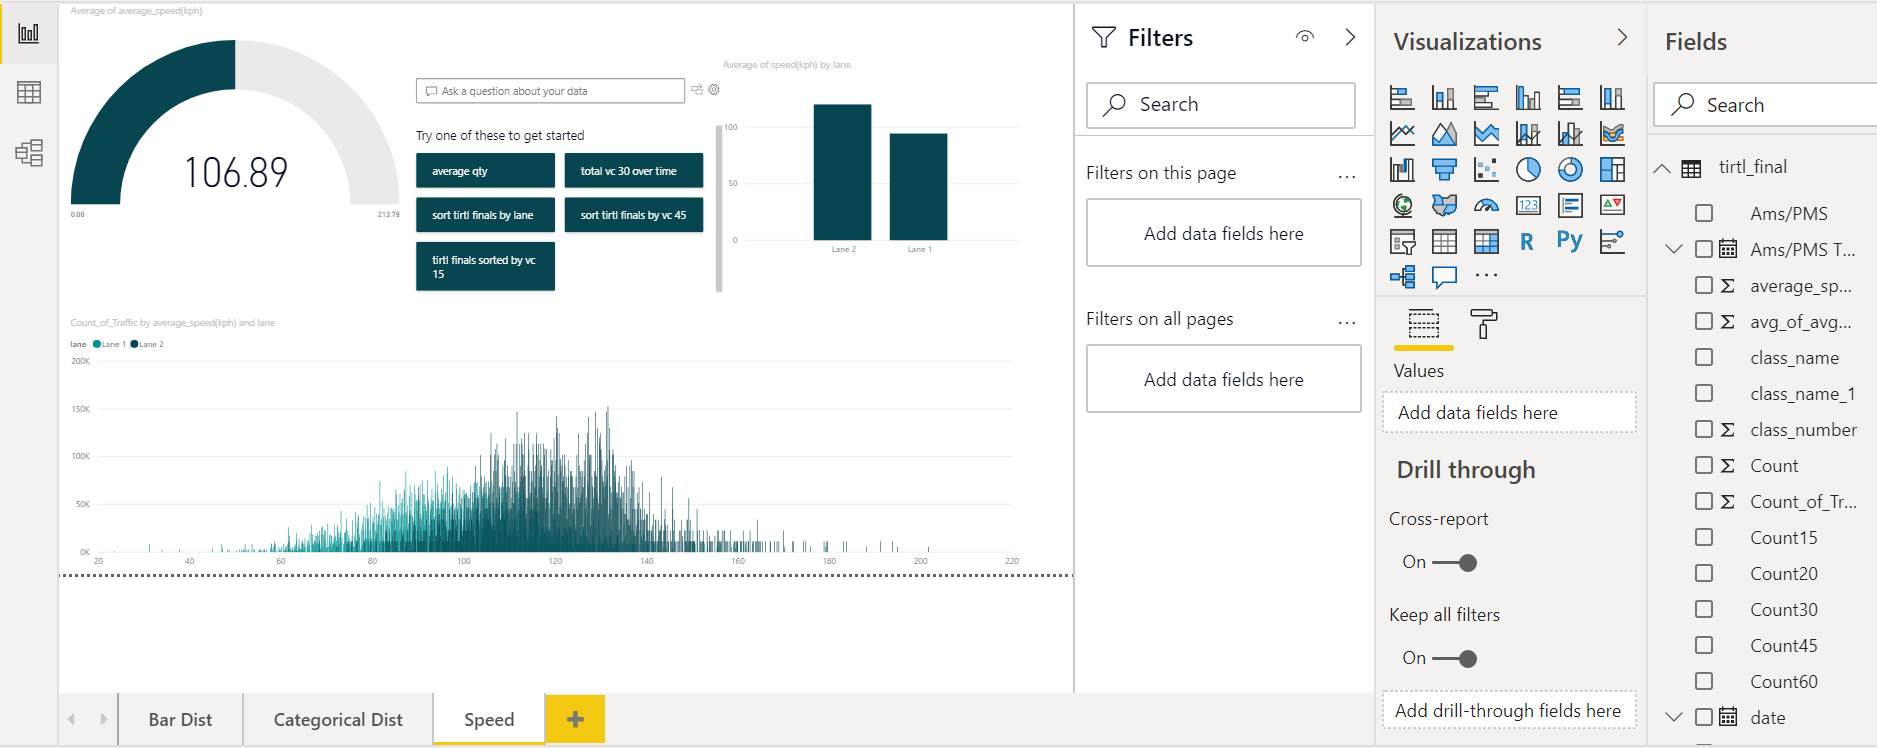

Layout of this report page (visuals, bound fields, positions):
{"tool":"powerbi","page":{"name":"Speed","canvas":[1280,720],"ordinal":2},"visuals":[{"type":"gauge","fields":{"Y":["Avg(tirtl_final.average_speed(kph))"]},"box":[9.5,0,425.4,302.5],"z":0},{"type":"clusteredColumnChart","fields":{"Y":["Avg(tirtl_final.speed(kph))"],"Category":["tirtl_final.lane"]},"box":[833.8,68.1,383.8,259],"z":1000},{"type":"qnaVisual","box":[440.5,68.1,400.8,325.2],"z":2000},{"type":"clusteredColumnChart","fields":{"Category":["tirtl_final.average_speed(kph)"],"Y":["Sum(tirtl_final.Count_of_Traffic)"],"Series":["tirtl_final.lane"]},"box":[9.5,393.3,1208.2,327.1],"z":3000}]}

Visuals, with their boxes on the page's 1280x720 design canvas (x1, y1, x2, y2). These are canvas units, not pixel positions in the 1877x748 screenshot, which may show the page scaled, cropped or inside an application window:
gauge - Avg(tirtl_final.average_speed(kph)): <bbox>10, 0, 435, 302</bbox>
clusteredColumnChart - Avg(tirtl_final.speed(kph)) x tirtl_final.lane: <bbox>834, 68, 1218, 327</bbox>
qnaVisual: <bbox>440, 68, 841, 393</bbox>
clusteredColumnChart - tirtl_final.average_speed(kph) x Sum(tirtl_final.Count_of_Traffic): <bbox>10, 393, 1218, 720</bbox>
